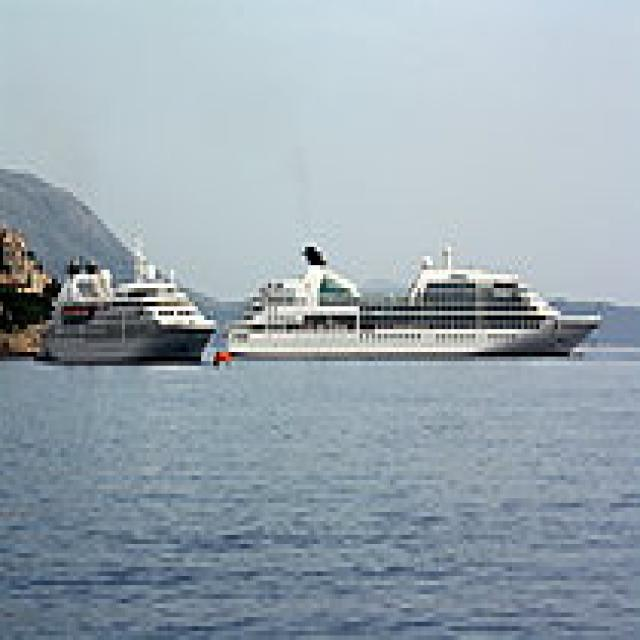Ship: (224, 225, 614, 381), (32, 220, 224, 385)
